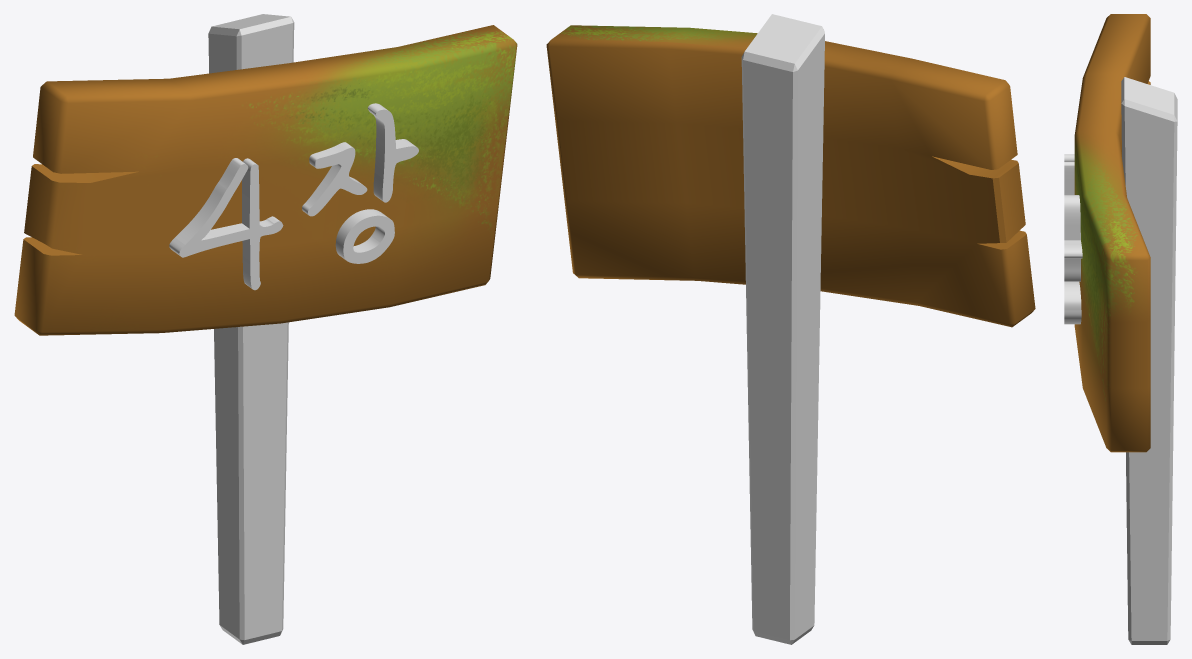
File: 4Panel.FBX
3 views of the same model, side by side, from view 1: azimuth 30°, elevation 25°; view 2: azimuth 150°, elevation 25°; view 3: azimuth 270°, elevation 25° (orthographic). The views are drawn at different scales.
Visible parts, largest first — view 1: Box052, Box051, 장002, number002; view 2: Box052, Box051; view 3: Box052, Box051, 장002, number002.
Part boxes in pixels (x1,y1,x2,y2): Box052: (14, 25, 517, 335); Box051: (208, 14, 294, 644); 장002: (302, 103, 418, 263); number002: (169, 158, 283, 290); Box052: (546, 25, 1035, 327); Box051: (741, 14, 824, 644); Box052: (1074, 14, 1150, 452); Box051: (1121, 77, 1177, 644); 장002: (1064, 195, 1082, 324); number002: (1064, 154, 1074, 194).
Bounding box in the file's own units: 81.75 × 100 × 18.75.
